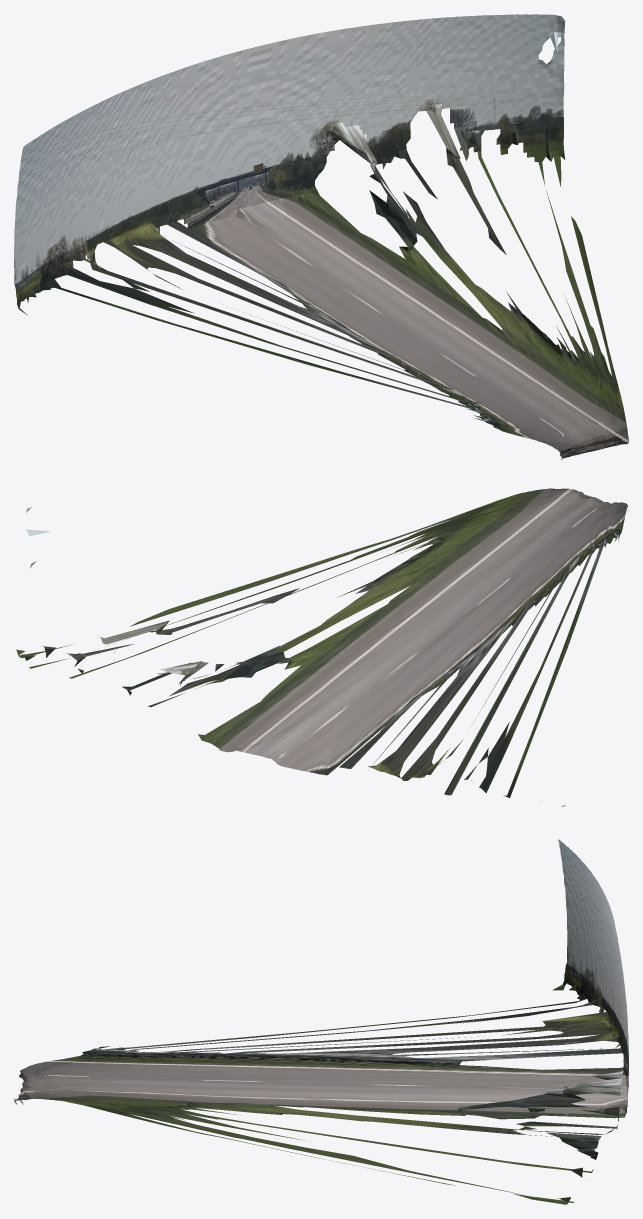
3 renders of one model, top to bottom at view 1: azimuth 30°, elevation 25°; view 2: azimuth 150°, elevation 25°; view 3: azimuth 270°, elevation 25°, orthographic. The views are drawn at different scales.
Visible parts, largest first — view 1: defaultobject; view 2: defaultobject; view 3: defaultobject.
Part boxes in pixels (x1,y1,x2,y2): defaultobject: (14,14,628,459); defaultobject: (16,488,628,806); defaultobject: (14,839,628,1204).
Bounding box in the file's own units: 41.16 × 12.86 × 44.58.
1 material, 1 textured.
